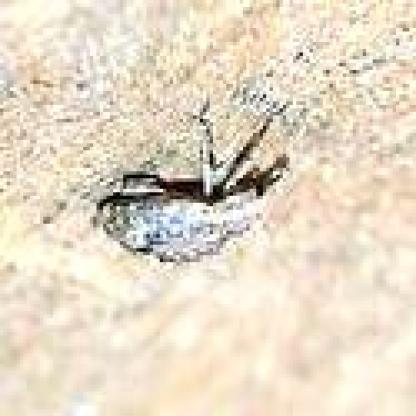rice-bug: (93, 112, 298, 274)
